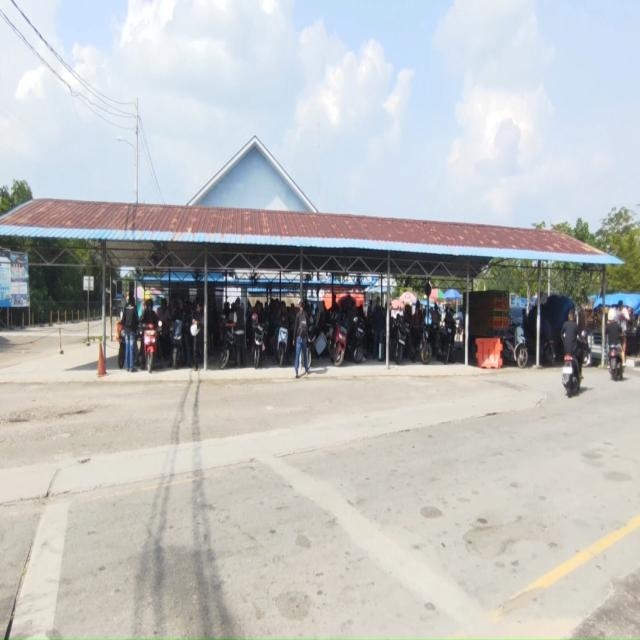Golongan II: (503, 324, 528, 368), (117, 322, 139, 370), (143, 322, 161, 373), (439, 313, 456, 364), (393, 316, 409, 365), (562, 354, 580, 397), (332, 318, 348, 366), (219, 326, 235, 370), (171, 319, 184, 369), (252, 322, 266, 368), (352, 318, 365, 364), (275, 325, 289, 367), (419, 323, 433, 364), (608, 346, 623, 381), (117, 322, 126, 370), (542, 339, 556, 367), (581, 330, 591, 366)
